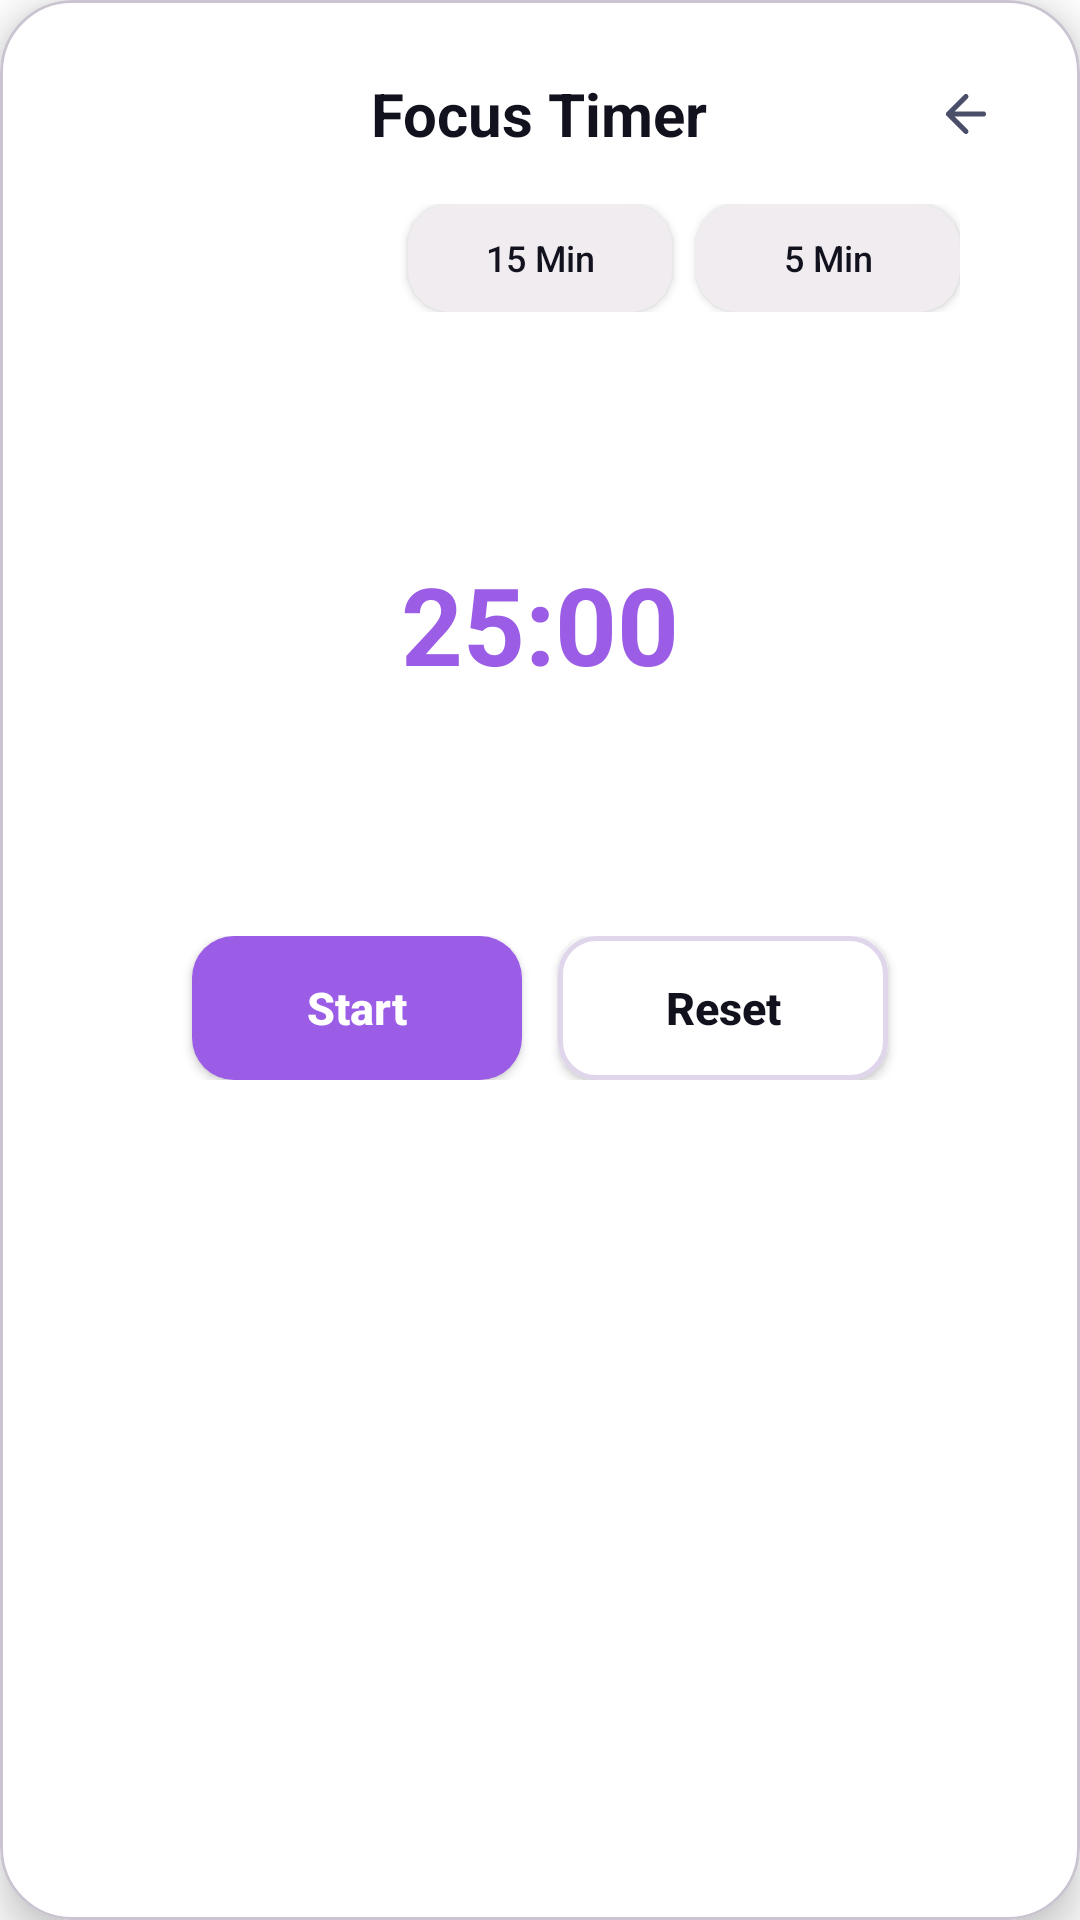

Icons on this 1080px x 1920px Android screen, each with its box as (x1, y1, x2, y2):
back: (946, 94, 986, 134)
